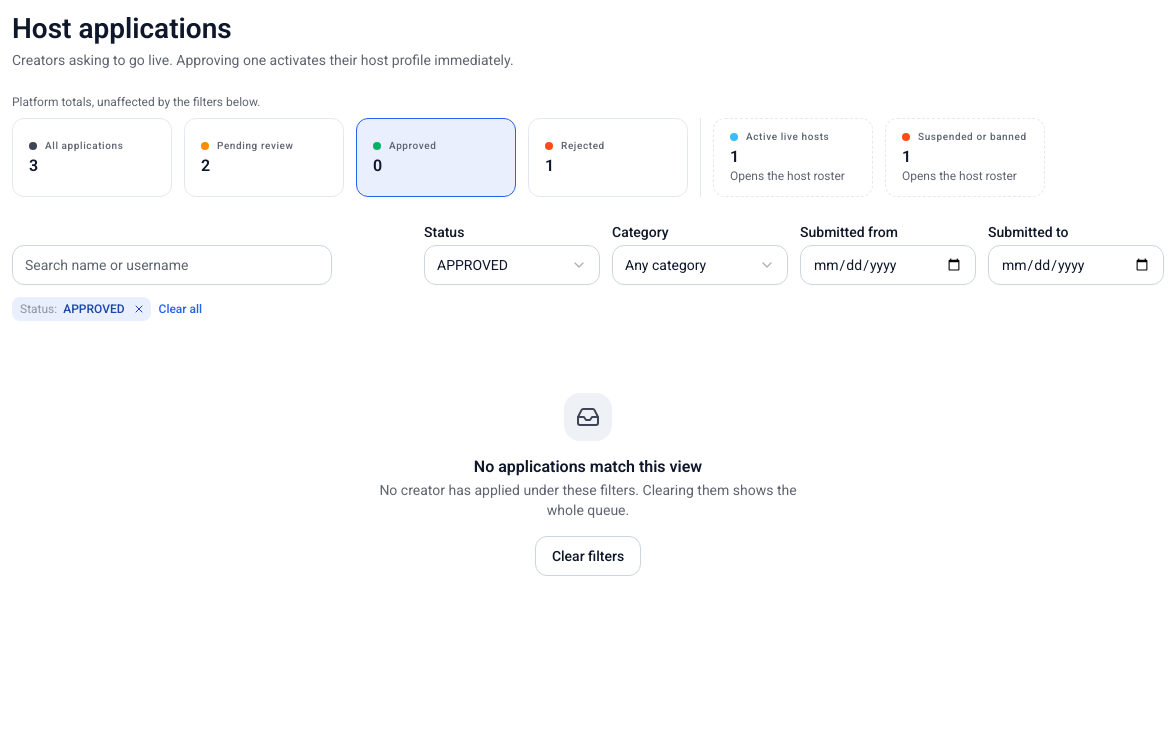
Scenario: the empty state, which is the only thing production can show › clearing the filters from the empty state restores the queue
Expected: the text "No applications match this view" is shown, 474,457 -> 702,476
Click the button "Clear filters" at (588, 556), box 535,536 -> 641,576
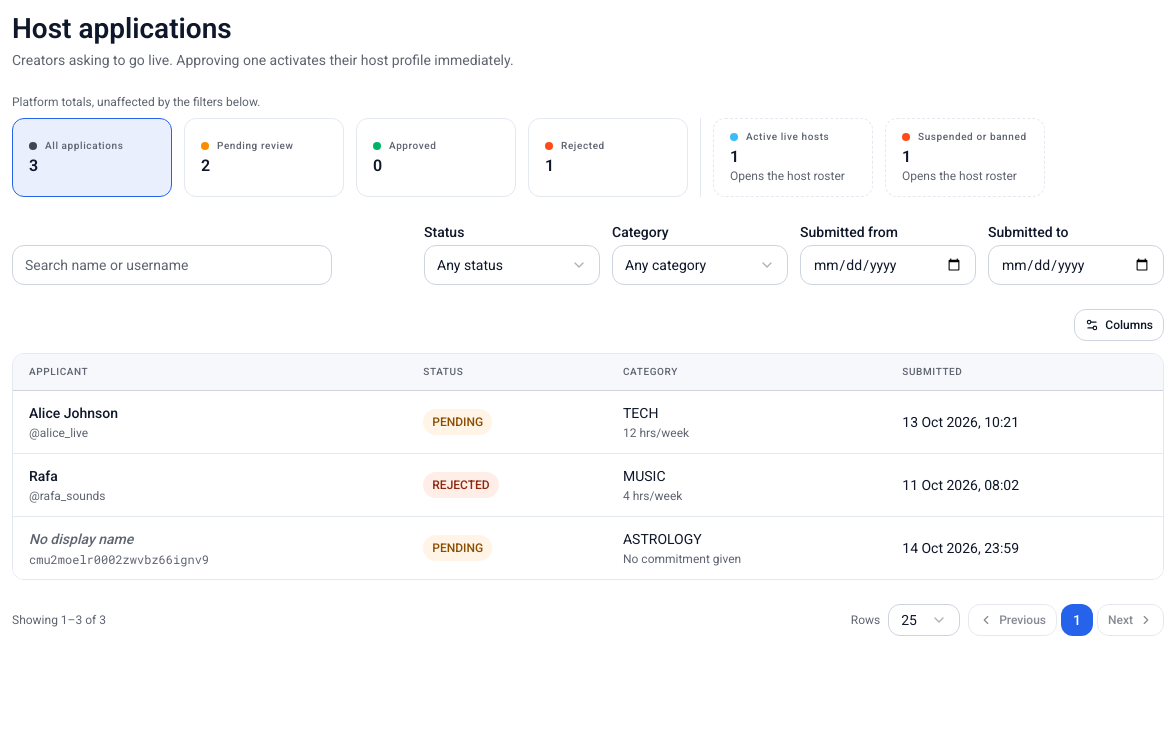
Expected: the text "Alice Johnson" is shown, 29,405 -> 118,421
